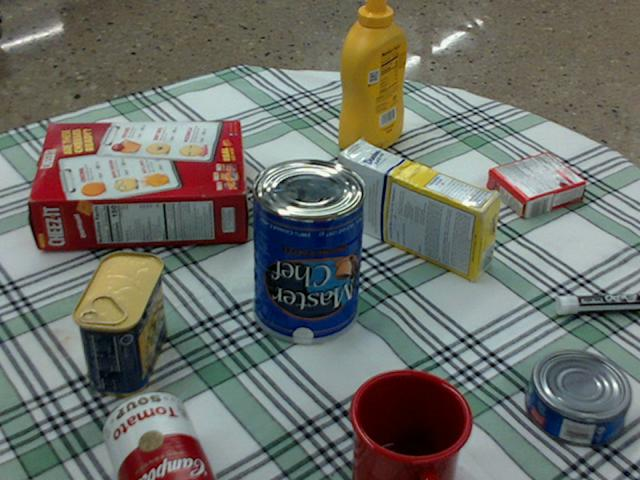cracker_box: (29, 121, 244, 249)
gelatin_box: (485, 152, 584, 219)
large_marker: (556, 293, 639, 313)
master_chef_can: (252, 158, 366, 343)
mug: (346, 369, 470, 479)
mustard_bottle: (337, 0, 405, 154)
potted_meat_can: (73, 251, 165, 395)
sugar_box: (336, 141, 501, 281)
tomato_soup_can: (103, 391, 213, 479)
tuna_fish_can: (526, 350, 631, 446)
